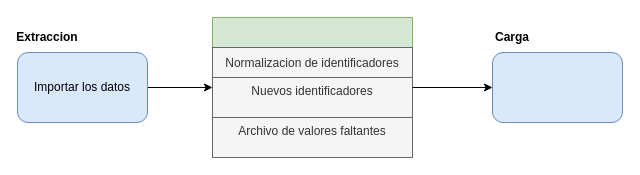
This 640x175 diagram has some shape labels left out. The shapes that lost their labels are listed below. From the top down, each one's box as (x1, y1, x2, y2) in pixels, then its label:
(212, 16, 412, 158): Transformación
(492, 52, 622, 122): Cargar a base de datos
